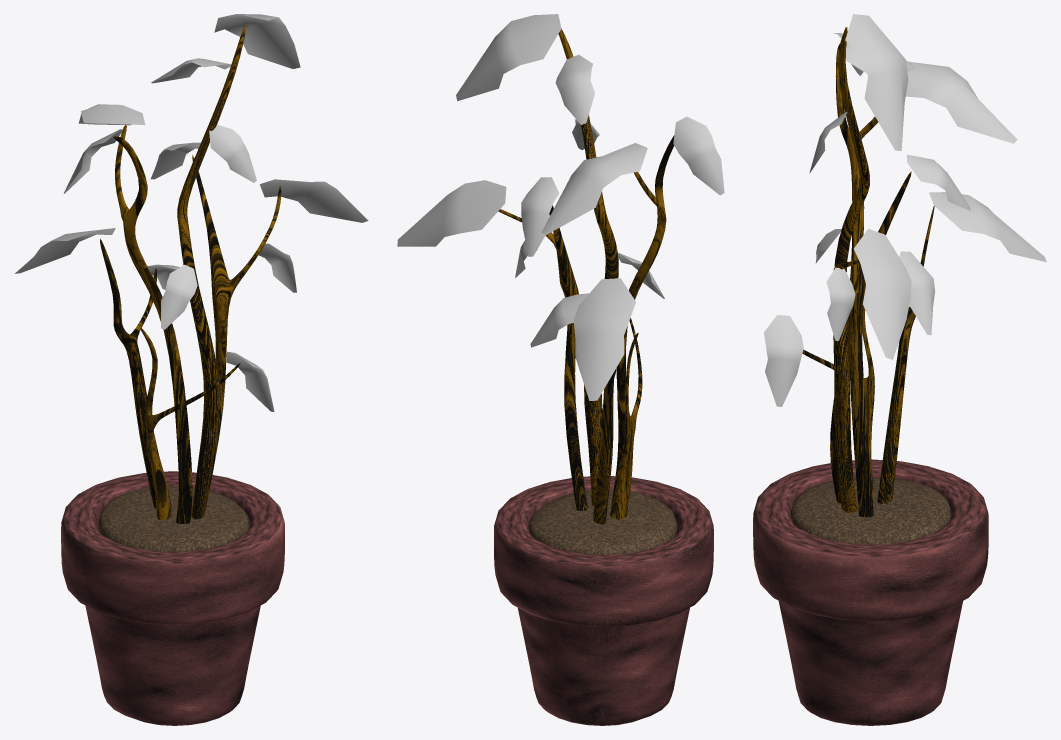
File: Flowerpot.fbx
3 renders of one model, left to right at view 1: azimuth 30°, elevation 25°; view 2: azimuth 150°, elevation 25°; view 3: azimuth 270°, elevation 25°, orthographic. The views are drawn at different scales.
Parts seen in each view (by area): view 1: circleflowerpot, branch, dirt, leaves11, leaves2, leaves4, leaves10, leaves7, leaves5, leaves, leaves1, leaves6 (+2 smaller); view 2: circleflowerpot, branch, dirt, leaves7, leaves11, leaves2, leaves5, leaves8, leaves9, leaves6, leaves3; view 3: circleflowerpot, branch, dirt, leaves2, leaves11, leaves5, leaves7, leaves, leaves3, leaves1, leaves6.
Boxes of the visible parts, x1,y1,x2,y2 form: circleflowerpot: (61,471,284,725); branch: (100,24,281,523); dirt: (98,485,250,552); leaves11: (214,14,300,68); leaves2: (260,179,368,222); leaves4: (161,264,197,329); leaves10: (209,124,256,182); leaves7: (15,228,115,273); leaves5: (78,104,145,125); leaves: (226,351,274,411); leaves1: (258,243,296,292); leaves6: (151,142,200,179); circleflowerpot: (494,476,713,725); branch: (498,29,674,524); dirt: (528,489,677,555); leaves7: (573,278,635,400); leaves11: (456,14,561,101); leaves2: (397,180,506,246); leaves5: (541,143,647,234); leaves8: (673,116,724,195); leaves9: (555,54,594,124); leaves6: (521,177,559,256); leaves3: (530,293,588,347); circleflowerpot: (753,459,988,725); branch: (802,27,934,517); dirt: (790,477,951,544); leaves2: (854,228,911,359); leaves11: (845,14,908,150); leaves5: (905,61,1017,143); leaves7: (929,192,1046,262); leaves: (764,315,803,406); leaves3: (899,251,935,335); leaves1: (826,267,855,340); leaves6: (906,154,970,210).
Bounding box in the file's own units: 8.17 × 16.65 × 6.19.
